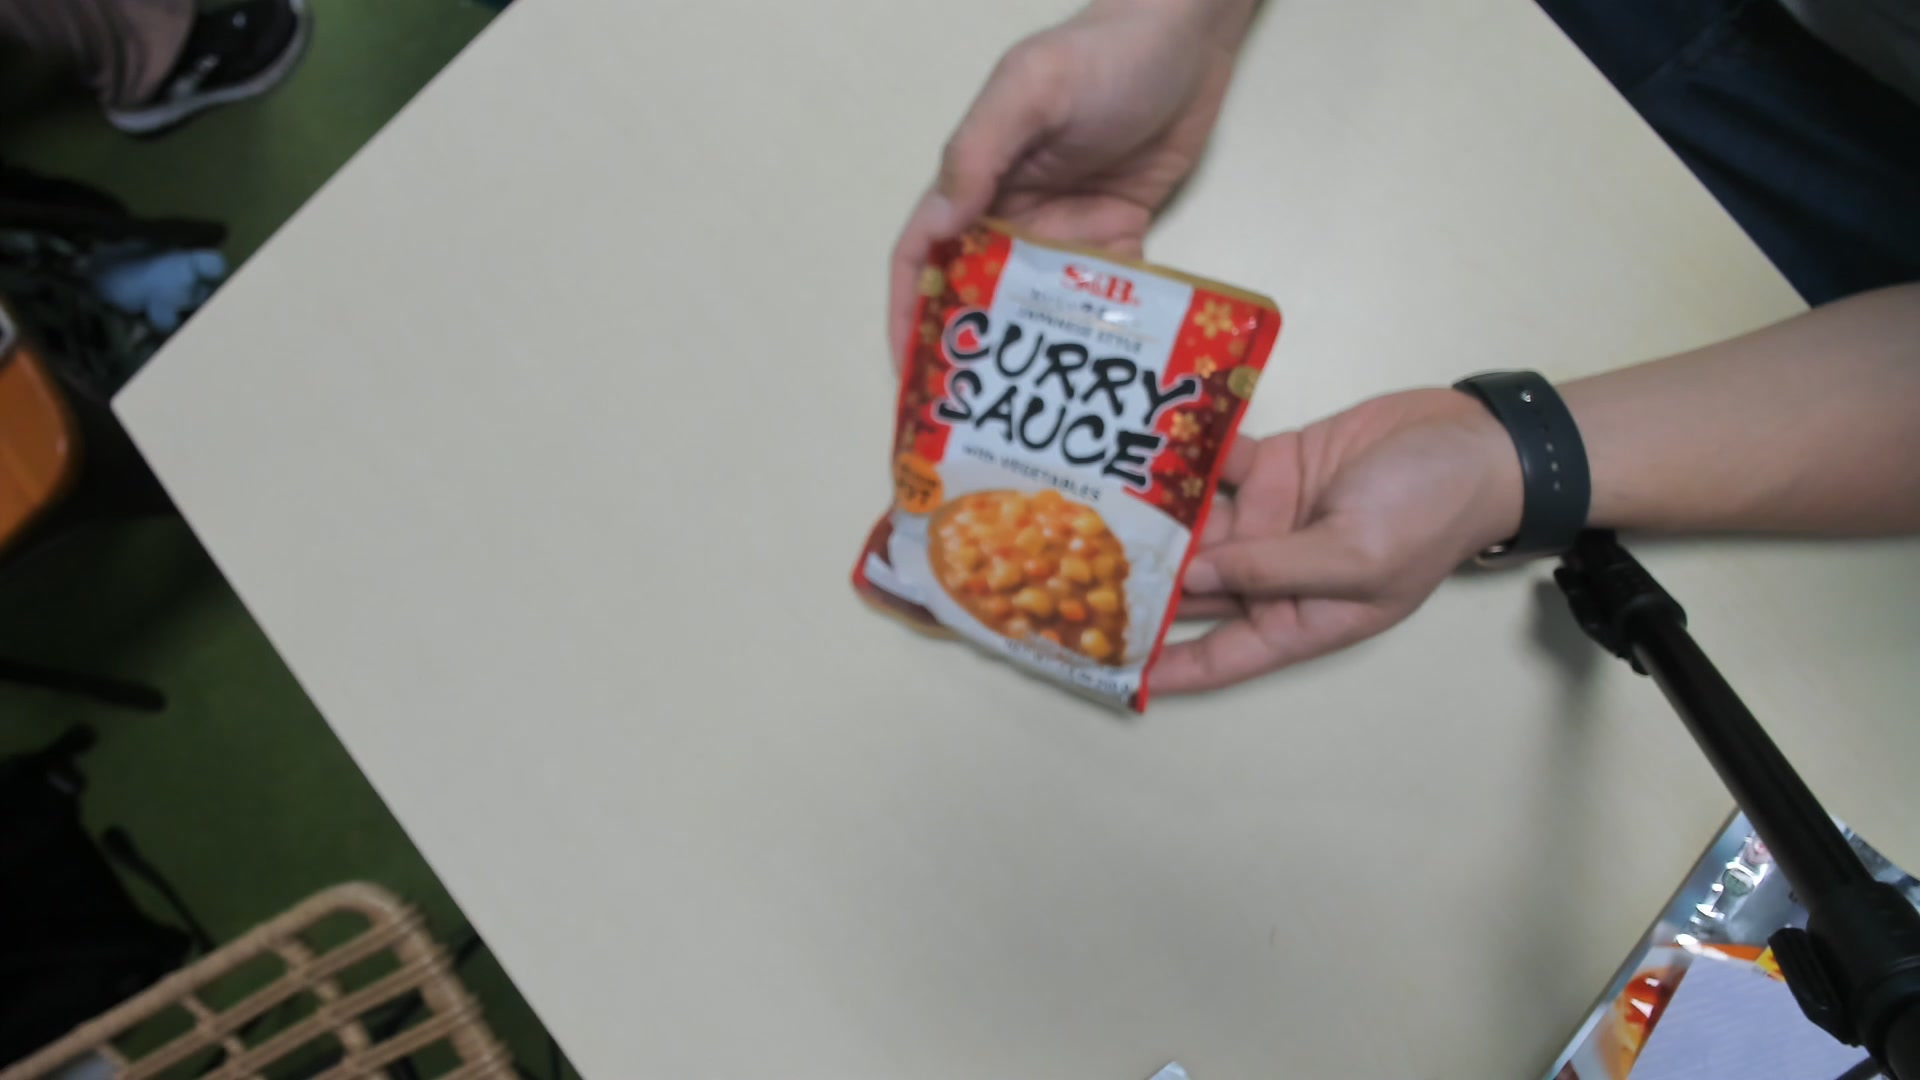CurryPastePowderSauce_200-299g_NonHalal_NonHealthy: (858, 235, 1284, 719)
